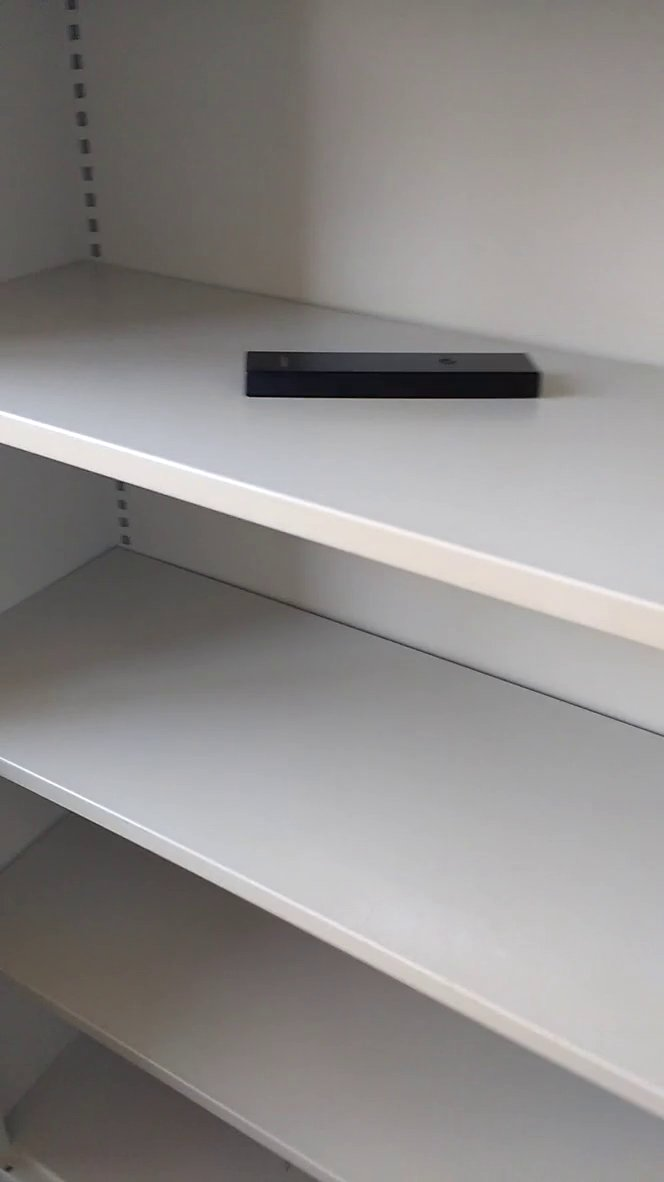remote: (229, 333, 560, 436)
